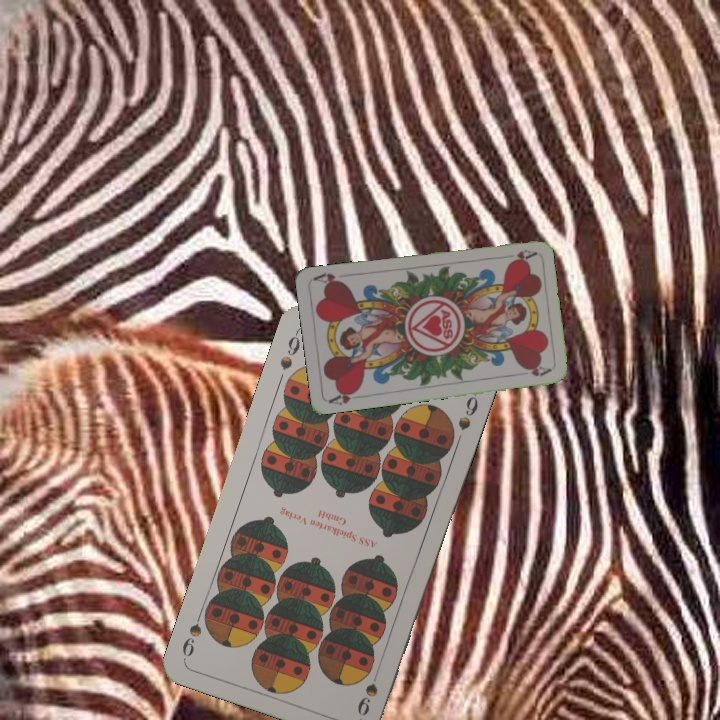HA: (325, 385, 363, 408), (497, 245, 537, 264)
S9: (353, 663, 383, 718), (275, 328, 303, 373)
